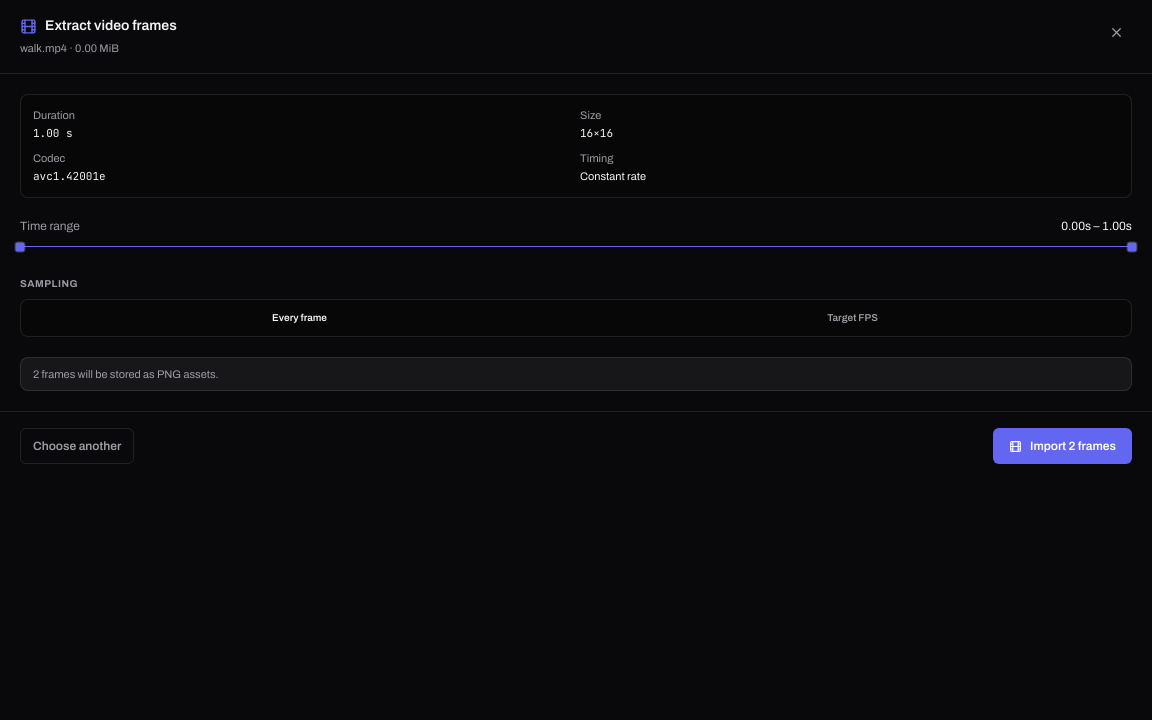
it: SliceVideoImportPanel › recovers when the queue action throws before returning
Step 1. Click the button "Import 2 frames" → coordinates (1062, 446), box [993,428,1132,464]
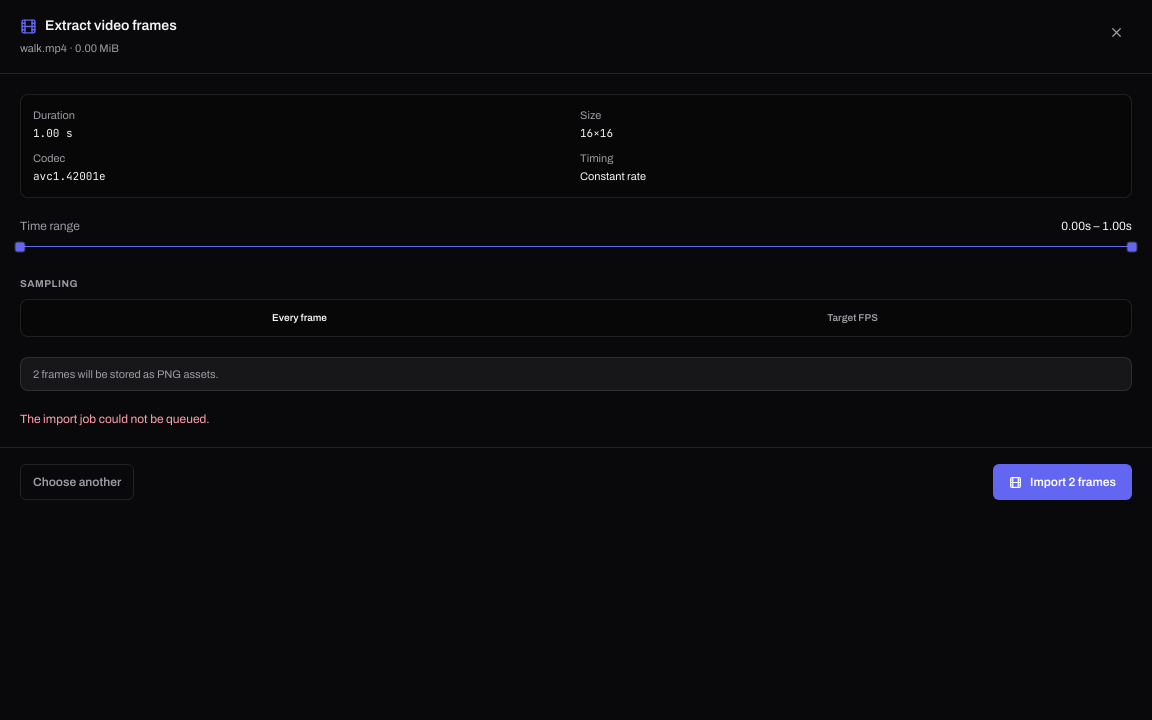
Expected: the button "Import 2 frames" is enabled, [993,464,1132,500]
Expected: the message "The import job could not be queued." is shown, [20,412,210,426]
